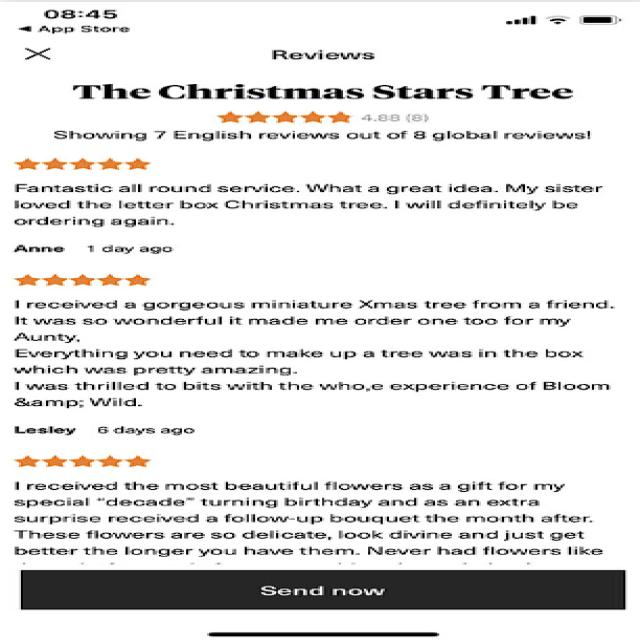button: (7, 561, 630, 620)
column: (9, 76, 639, 640)
icon button: (13, 34, 73, 70)
text: (19, 81, 611, 553), (240, 41, 394, 66)
